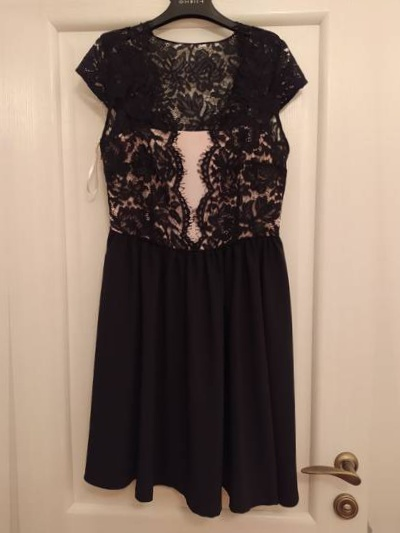Dress: (54, 16, 346, 498)
